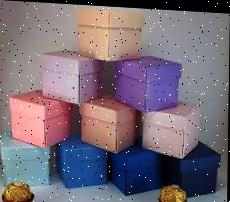cube: (116, 52, 181, 110), (74, 6, 143, 60), (9, 90, 73, 148), (141, 99, 202, 155), (42, 50, 102, 102), (168, 138, 220, 193)
